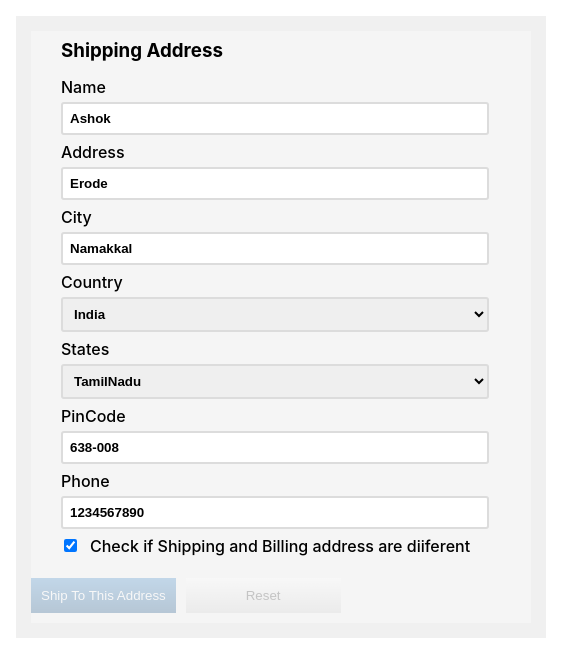
Test: Testing Form › check submit button disabled
The image size is (563, 655).
Replace the text in the field below "Name" with "Ashokkumar": [275, 118] box [61,102,488,135]
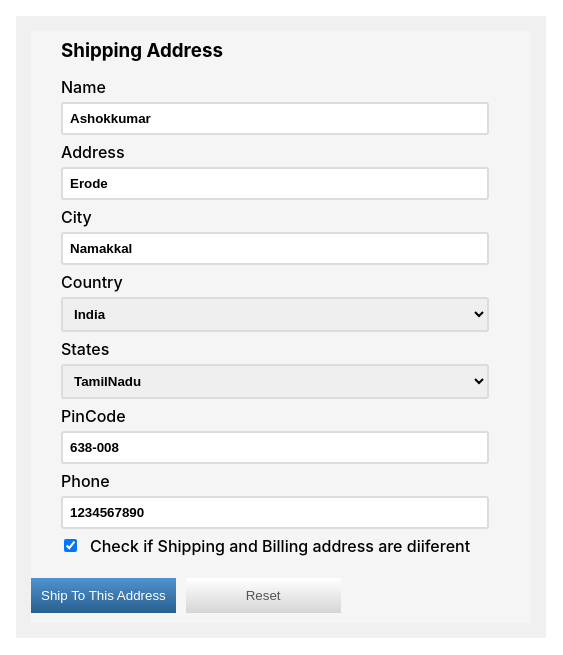
Check: the submit button is enabled, box [31,578,176,613]
